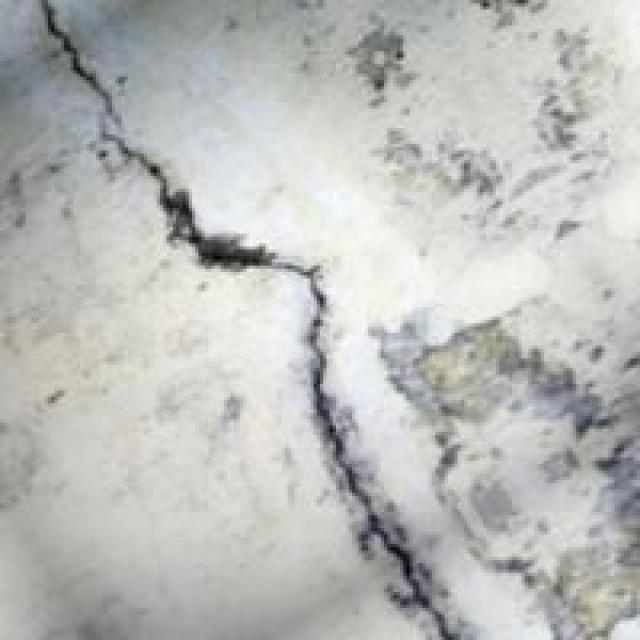crack: (19, 6, 474, 637)
